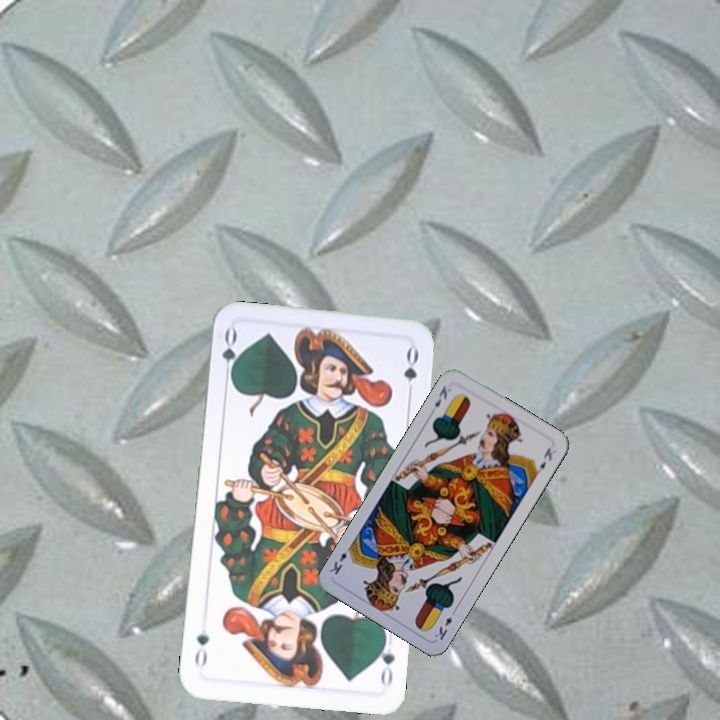EK: (430, 605, 459, 643), (430, 382, 450, 410)
GO: (373, 630, 397, 689), (218, 325, 240, 385)
